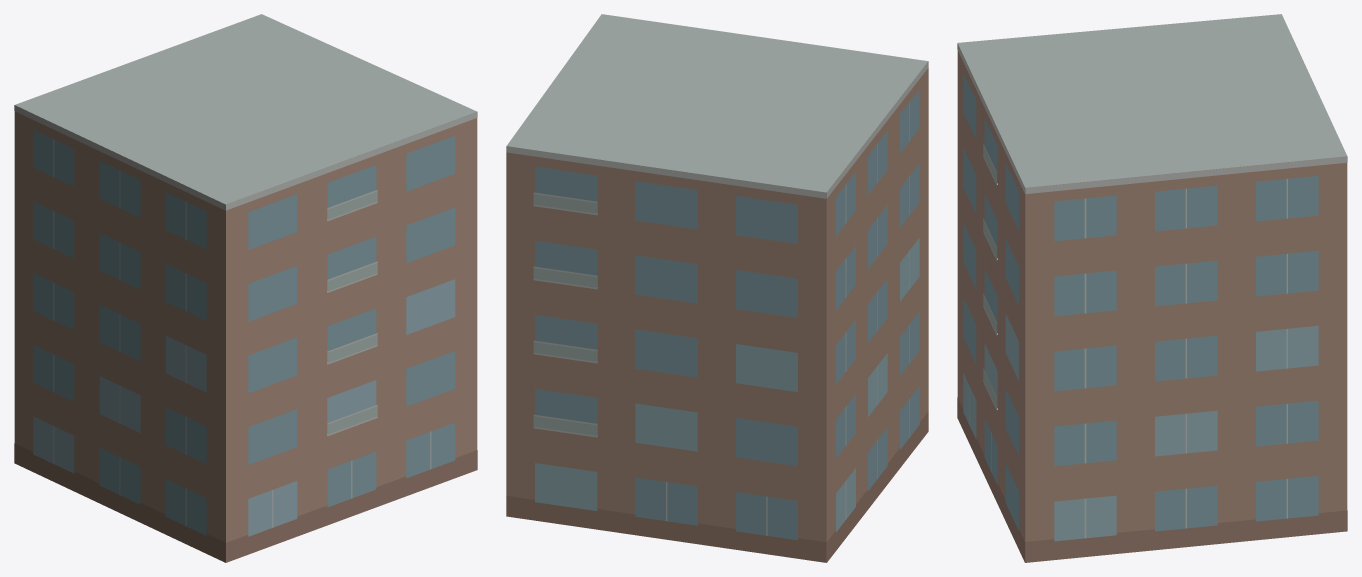
File: survey-upis-32646338.glb
3 views of the same model, side by side, from view 1: azimuth 30°, elevation 25°; view 2: azimuth 150°, elevation 25°; view 3: azimuth 270°, elevation 25° (orthographic). The views are drawn at different scales.
Parts seen in each view (by area): view 1: survey-upis-32646338.tmp; view 2: survey-upis-32646338.tmp; view 3: survey-upis-32646338.tmp.
Boxes of the visible parts, bbox=[...] form: survey-upis-32646338.tmp: bbox=[14, 14, 477, 562]; survey-upis-32646338.tmp: bbox=[506, 14, 928, 562]; survey-upis-32646338.tmp: bbox=[957, 14, 1347, 562].
Size of the model in its own units: 14.27 by 14.35 by 13.54.
